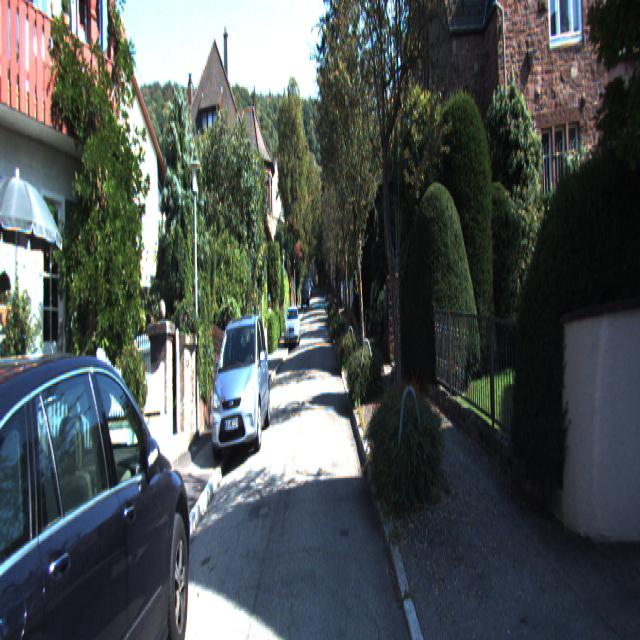Car: (0, 320, 195, 639), (208, 312, 271, 462), (285, 306, 301, 349)
